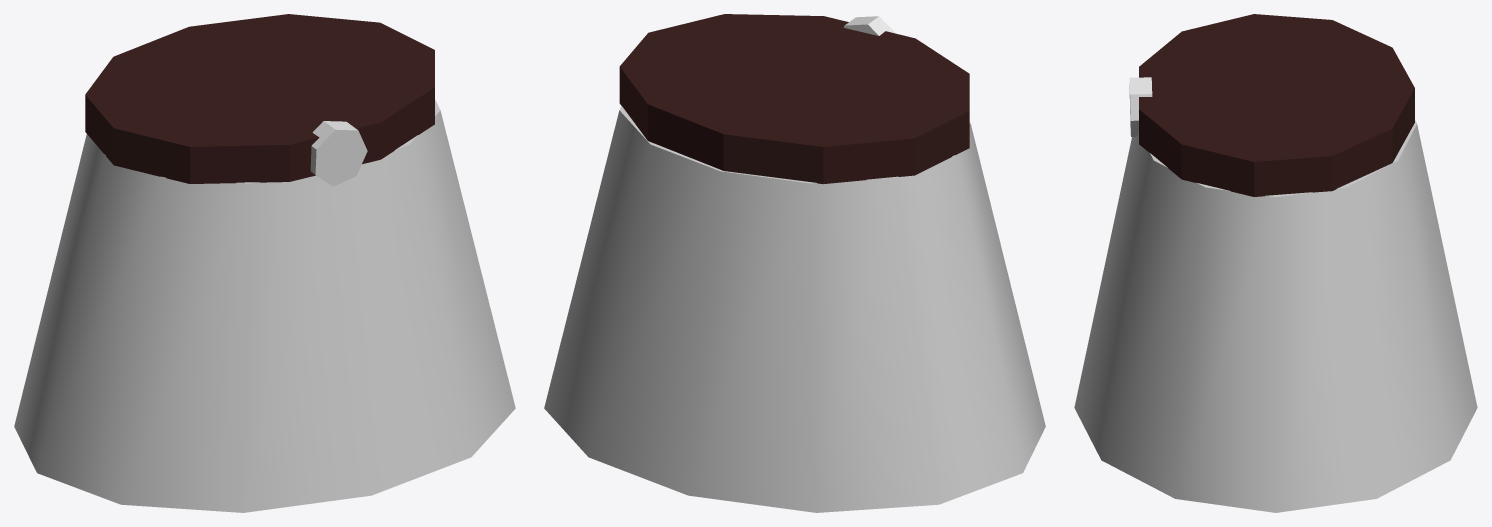
The model's file is skirt-middle-belted.glb.
The picture shows the model from 3 angles, left to right: view 1: azimuth 30°, elevation 25°; view 2: azimuth 150°, elevation 25°; view 3: azimuth 270°, elevation 25°; orthographic projection. The views are drawn at different scales.
Visible parts, largest first — view 1: Cylinder, Cylinder.002, Cylinder.001; view 2: Cylinder, Cylinder.002, Cylinder.001; view 3: Cylinder, Cylinder.002, Cylinder.001.
Part boxes in pixels (x1,y1,x2,y2): Cylinder: [14, 99, 515, 512]; Cylinder.002: [85, 14, 434, 183]; Cylinder.001: [310, 121, 367, 186]; Cylinder: [544, 106, 1045, 512]; Cylinder.002: [619, 14, 969, 184]; Cylinder.001: [843, 16, 895, 35]; Cylinder: [1074, 120, 1477, 512]; Cylinder.002: [1139, 14, 1414, 196]; Cylinder.001: [1129, 77, 1152, 136].
Bounding box in the file's own units: 1.59 × 1.15 × 1.29.
